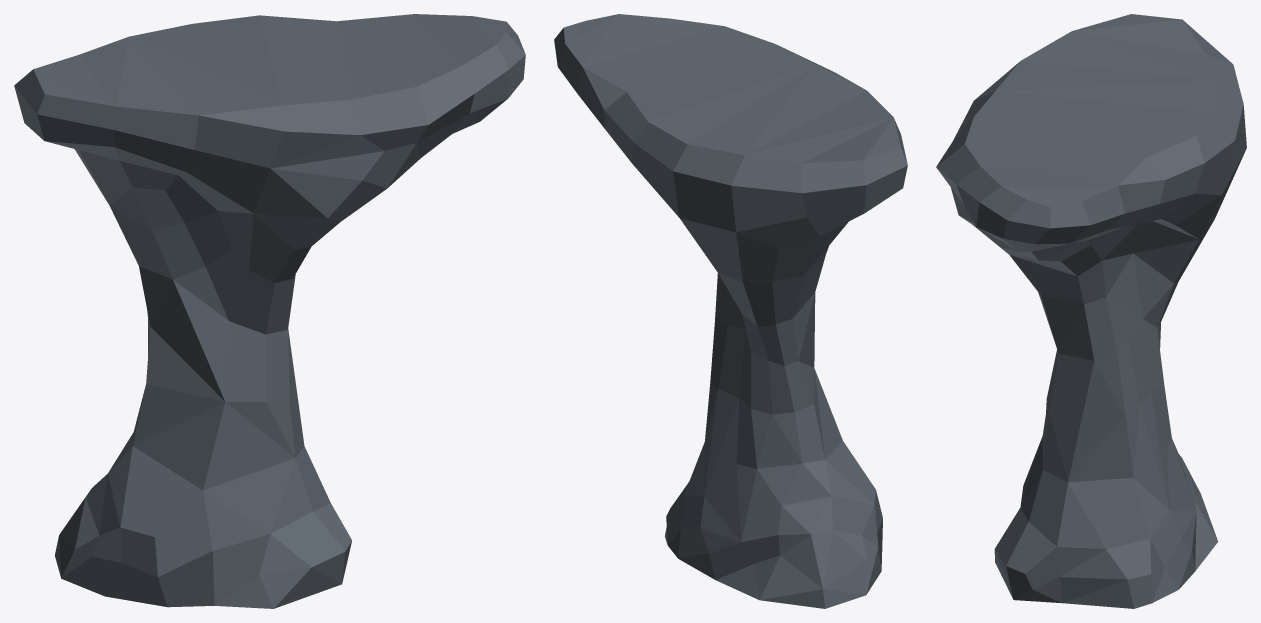
File: Pillar-B13.fbx
3 views of the same model, side by side, from view 1: azimuth 30°, elevation 25°; view 2: azimuth 150°, elevation 25°; view 3: azimuth 270°, elevation 25° (orthographic). The views are drawn at different scales.
Parts seen in each view (by area): view 1: Pillar-B13; view 2: Pillar-B13; view 3: Pillar-B13.
Part boxes in pixels (x1,y1,x2,y2): Pillar-B13: (14, 14, 525, 608); Pillar-B13: (554, 14, 907, 608); Pillar-B13: (936, 14, 1246, 608).
Bounding box in the file's own units: 306 × 198 × 339.
